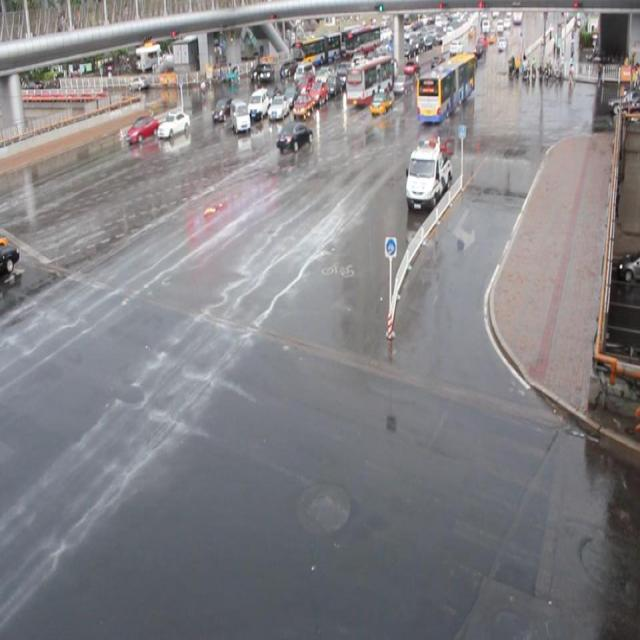bus: (403, 143, 450, 210)
car: (275, 121, 313, 152), (126, 114, 158, 143), (157, 110, 190, 138), (211, 95, 236, 122), (369, 88, 393, 115), (292, 91, 314, 118), (304, 80, 325, 106), (266, 96, 288, 120), (259, 85, 281, 108), (280, 83, 300, 107), (392, 73, 412, 95), (291, 76, 311, 97)
truck: (243, 89, 266, 121), (230, 98, 250, 132)
van: (415, 53, 474, 122), (344, 54, 395, 106)
